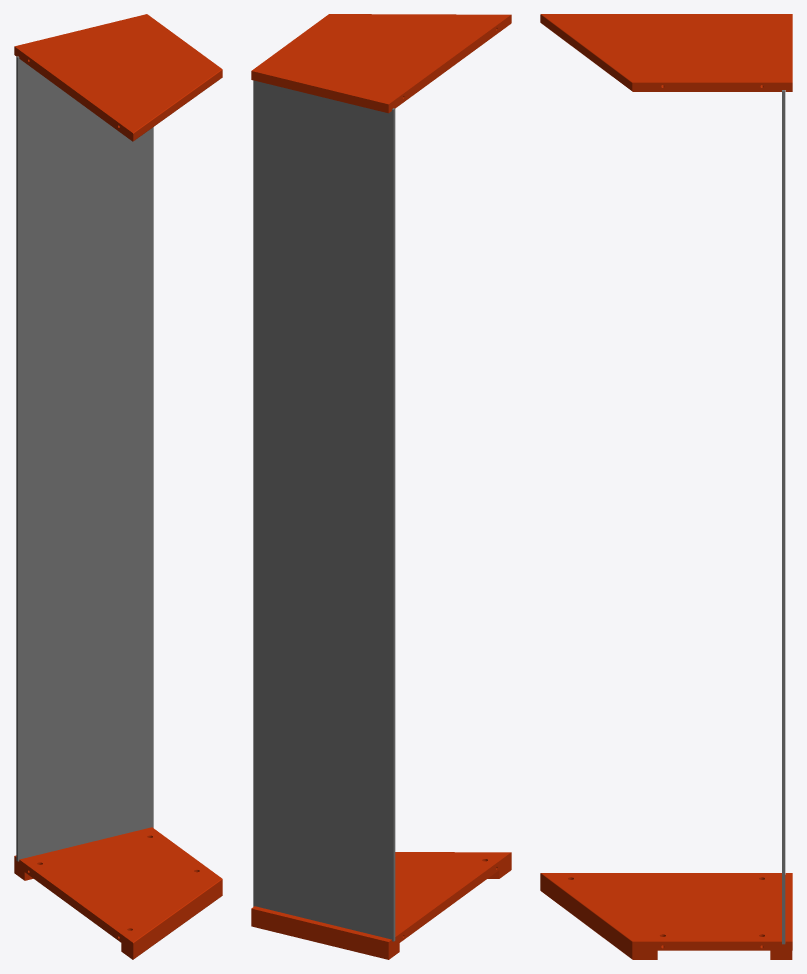
File: NYH238P62P40.fbx
3 views of the same model, side by side, from view 1: azimuth 30°, elevation 25°; view 2: azimuth 150°, elevation 25°; view 3: azimuth 270°, elevation 25° (orthographic). The views are drawn at different scales.
Parts seen in each view (by area): view 1: Body2, Body6, Body5, Body3; view 2: Body2, Body6, Body5, Body1; view 3: Body6, Body5, Body2, Body3.
Boxes of the visible parts, x1=… form: Body2: x1=16, y1=56, x2=153, y2=861; Body6: x1=14, y1=14, x2=222, y2=141; Body5: x1=14, y1=827, x2=221, y2=950; Body3: x1=132, y1=878, x2=222, y2=959; Body2: x1=253, y1=80, x2=395, y2=941; Body6: x1=251, y1=14, x2=511, y2=113; Body5: x1=251, y1=852, x2=511, y2=950; Body1: x1=251, y1=917, x2=399, y2=959; Body6: x1=540, y1=14, x2=792, y2=91; Body5: x1=542, y1=873, x2=792, y2=950; Body2: x1=782, y1=90, x2=785, y2=944; Body3: x1=540, y1=873, x2=633, y2=959.
Size of the model in its own units: 409 by 2381 by 620.
